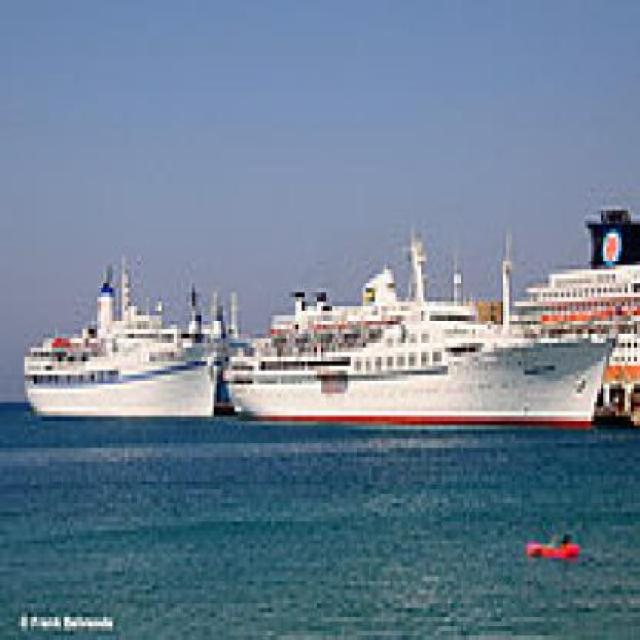cruise: (221, 221, 627, 450), (22, 248, 233, 422)
